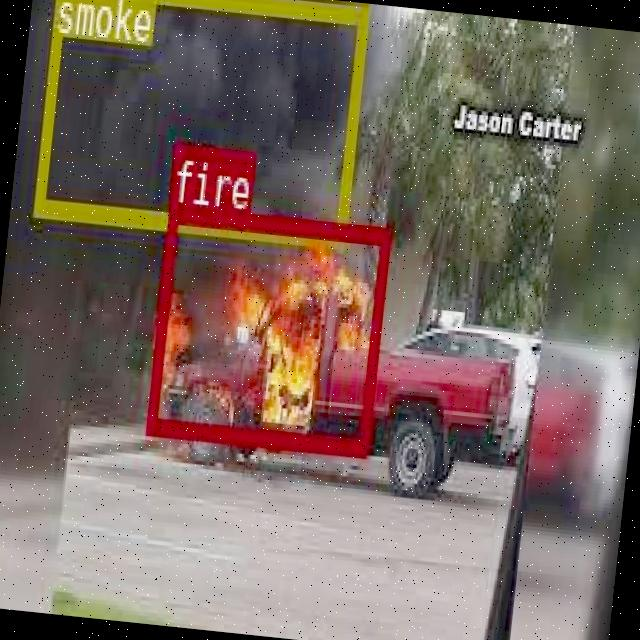fire: (144, 200, 388, 452)
smoke: (32, 0, 366, 245)
